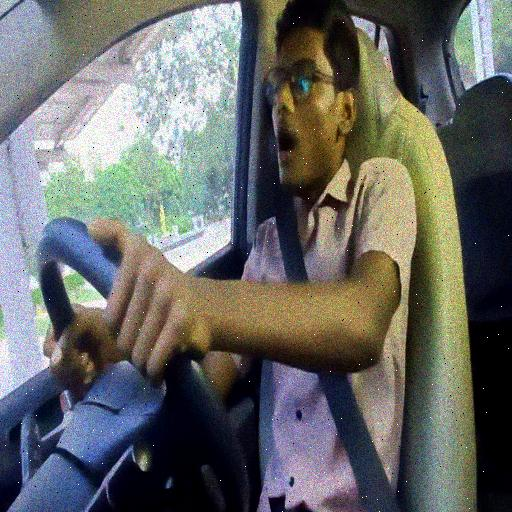yawns: (268, 0, 357, 193)
